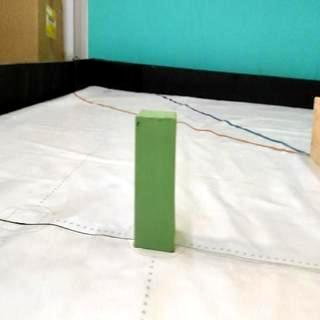greenbox: (134, 108, 176, 254)
